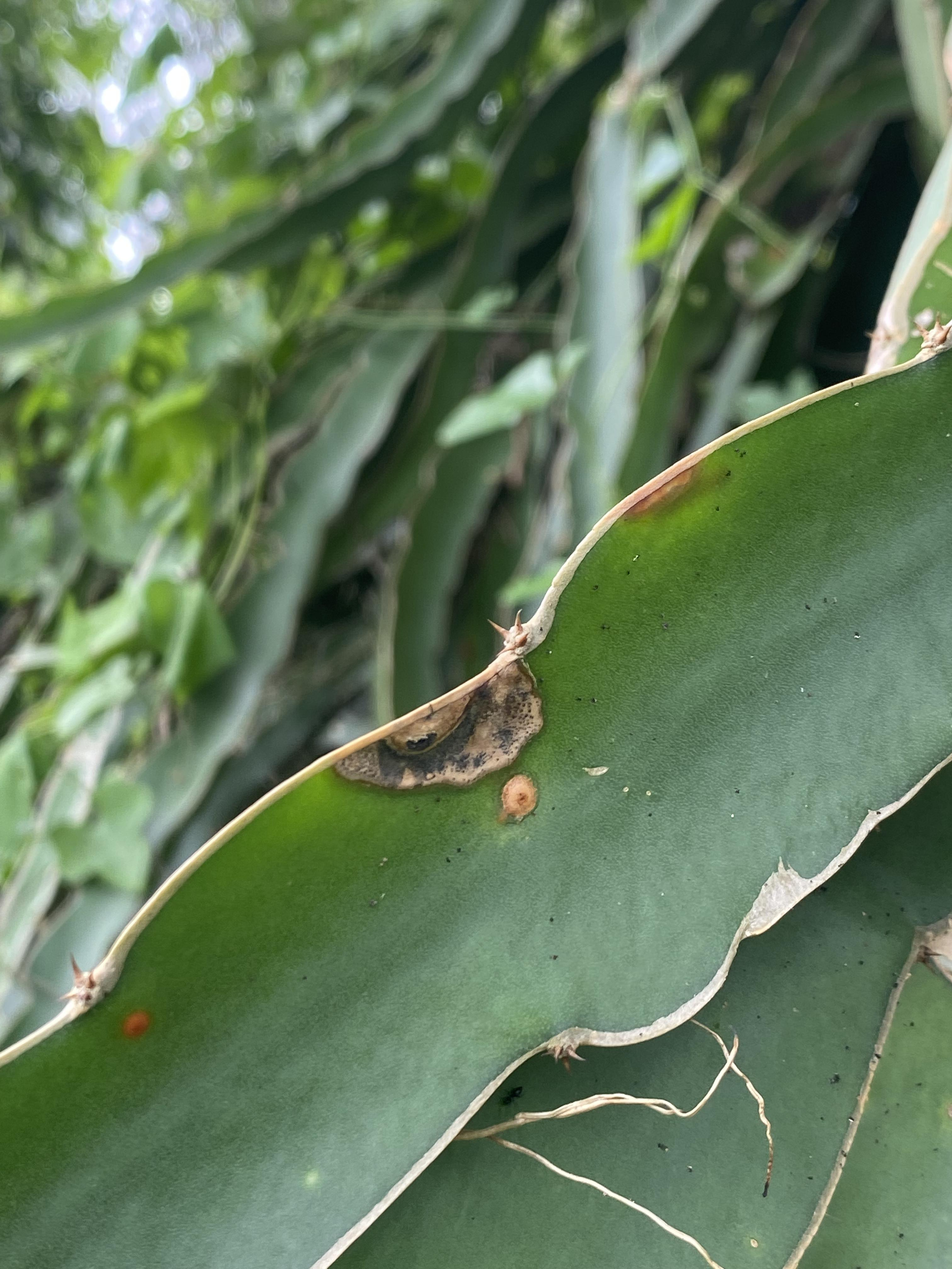stemcanker: (327, 651, 556, 829)
